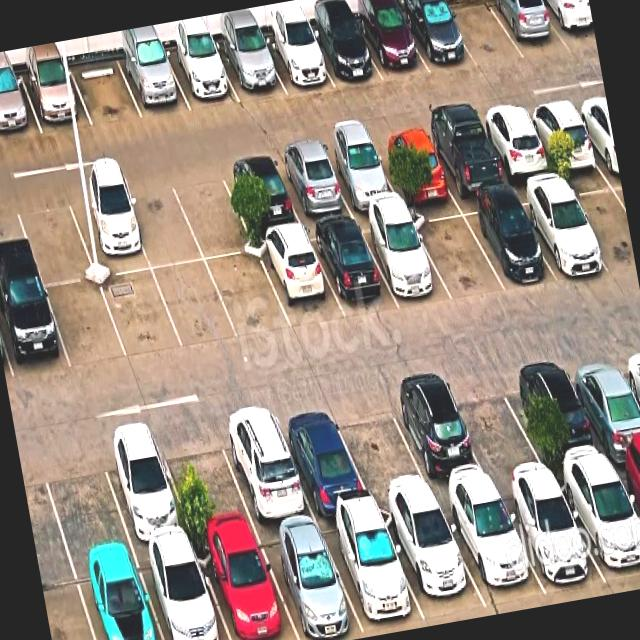car: (225, 431, 308, 545), (398, 510, 478, 628), (458, 496, 536, 617), (334, 518, 412, 638), (520, 484, 594, 606), (271, 529, 352, 640), (108, 453, 188, 563), (399, 390, 477, 502), (293, 423, 365, 538), (204, 540, 286, 640), (574, 472, 640, 596), (520, 361, 590, 474), (459, 380, 531, 488), (534, 180, 604, 289), (372, 210, 442, 312), (479, 192, 547, 294), (72, 177, 143, 273), (437, 111, 502, 213), (577, 358, 640, 463), (382, 115, 447, 216), (146, 555, 223, 640), (322, 216, 386, 318), (120, 22, 184, 124), (262, 232, 331, 326), (224, 151, 294, 242), (78, 566, 163, 640), (536, 94, 598, 194), (487, 106, 550, 204), (0, 288, 64, 378), (218, 5, 278, 101), (170, 15, 230, 110), (266, 0, 325, 96), (312, 0, 374, 89), (22, 40, 82, 130), (330, 133, 390, 222), (283, 143, 342, 227), (360, 0, 420, 80), (406, 0, 464, 72), (489, 0, 550, 50), (0, 48, 32, 141)
free: (46, 454, 128, 574), (344, 410, 424, 516), (170, 440, 247, 550), (422, 209, 495, 303), (130, 172, 196, 270), (71, 31, 136, 130), (104, 264, 172, 356), (51, 280, 120, 370), (182, 161, 248, 255), (19, 200, 88, 287), (211, 247, 276, 336), (159, 256, 223, 341), (447, 0, 509, 64)
